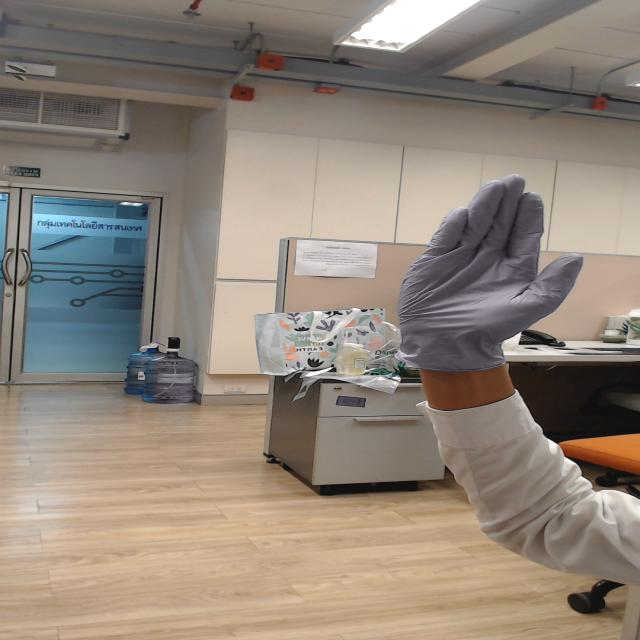glove: (358, 160, 609, 357)
